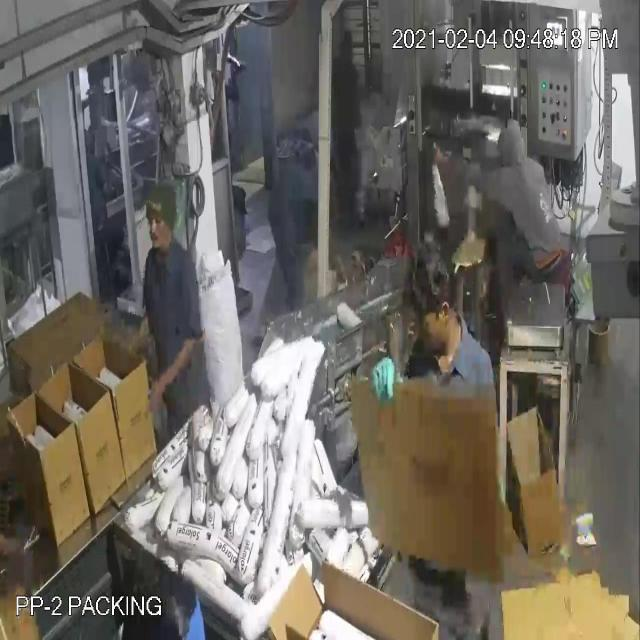No_Gloves: (42, 63, 385, 378)
